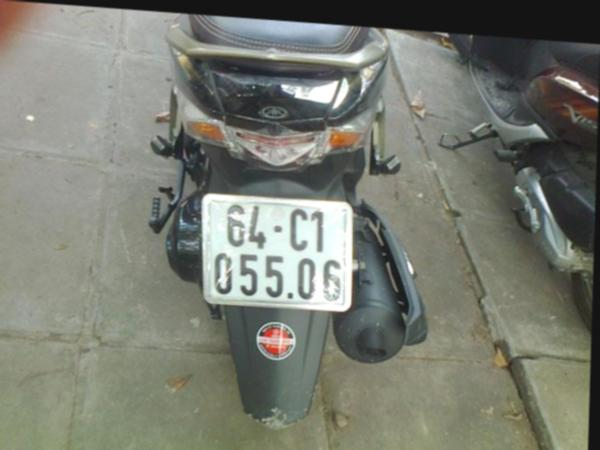License_Plate: (201, 194, 349, 309)
